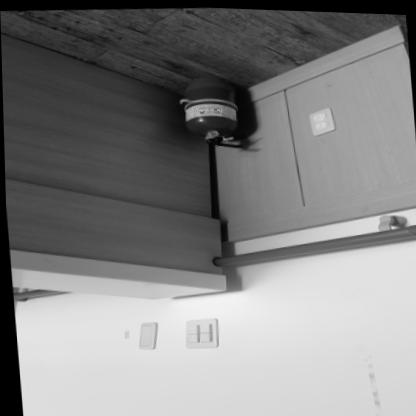FE: (181, 71, 242, 145)
